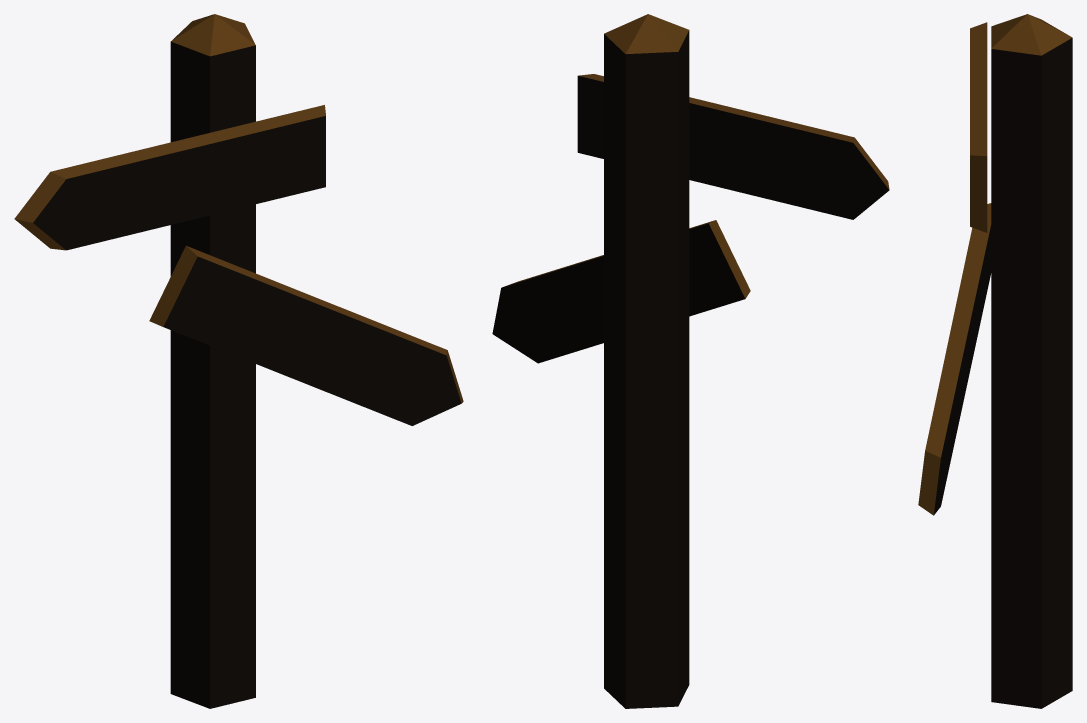
The model's file is Signpost_5.fbx.
3 views of the same model, side by side, from view 1: azimuth 30°, elevation 25°; view 2: azimuth 150°, elevation 25°; view 3: azimuth 270°, elevation 25° (orthographic).
Parts seen in each view (by area): view 1: Signpost_5; view 2: Signpost_5; view 3: Signpost_5.
Boxes of the visible parts, <box> form: Signpost_5: <box>14,14,463,708</box>; Signpost_5: <box>492,14,889,708</box>; Signpost_5: <box>918,14,1072,708</box>.
Bounding box in the file's own units: 142 × 216 × 44.72.
